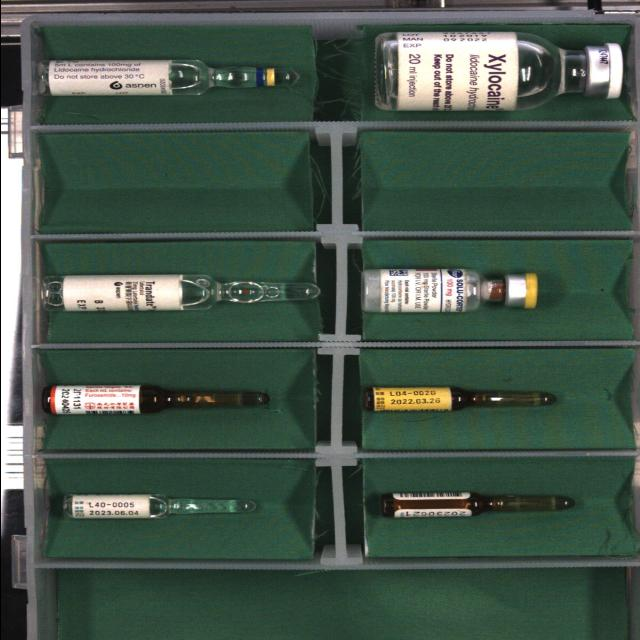Vials: (375, 32, 622, 111), (361, 269, 537, 313)
